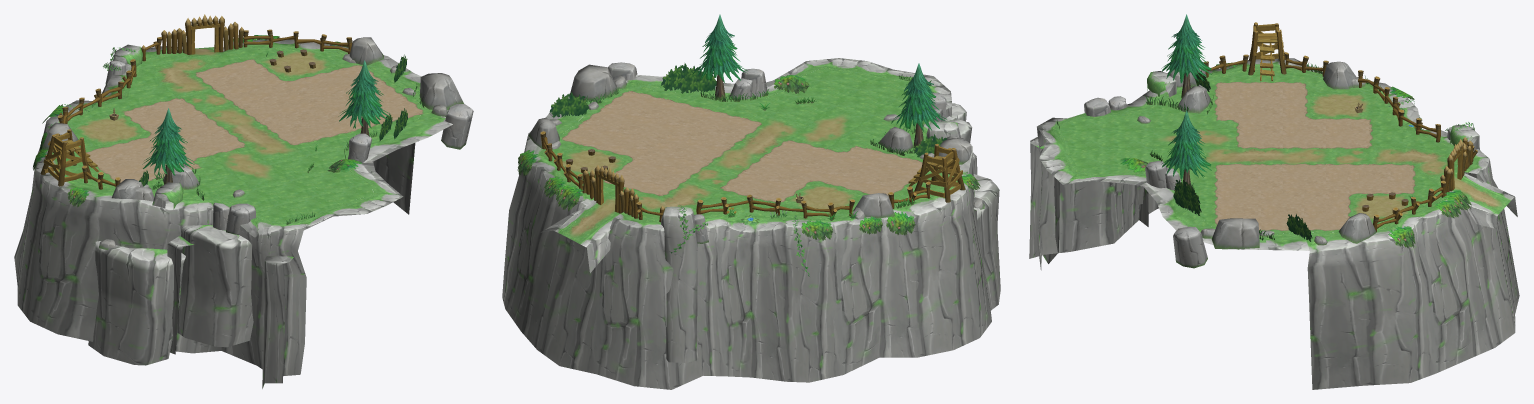
The model's file is gro001_01.fbx.
3 renders of one model, left to right at view 1: azimuth 30°, elevation 25°; view 2: azimuth 150°, elevation 25°; view 3: azimuth 270°, elevation 25°, orthographic.
Parts seen in each view (by area): view 1: stage, obj, mat, ap; view 2: stage, obj, mat, ap; view 3: stage, mat, obj, ap.
Boxes of the visible parts, x1,y1,x2,y2 form: stage: (14, 38, 452, 388); obj: (40, 14, 473, 249); mat: (87, 61, 419, 182); ap: (33, 35, 424, 224); stage: (502, 58, 1000, 389); obj: (528, 62, 984, 362); mat: (566, 92, 922, 201); ap: (517, 14, 980, 276); stage: (1029, 58, 1519, 389); mat: (1218, 83, 1412, 229); obj: (1084, 22, 1483, 268); ap: (1057, 14, 1480, 248).
Bounding box in the file's own units: 2211 × 1220 × 2273.
